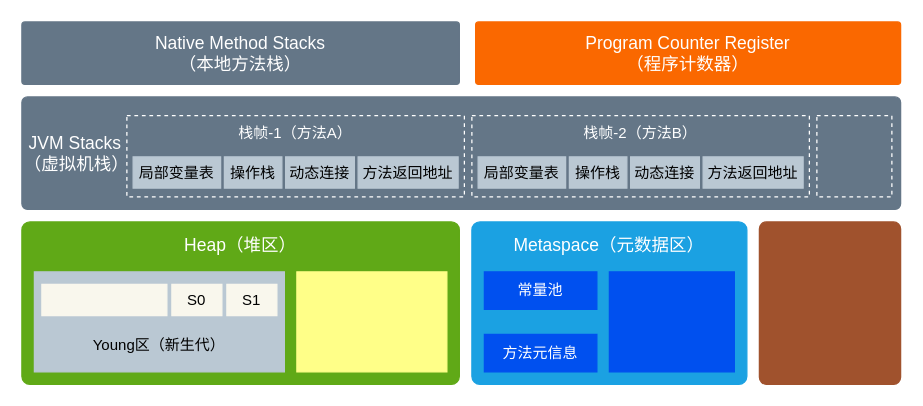
The diagram is 923 pixels wide and 406 high, and some of its shapes have lost their labels. The centre of each missing label's shape, as x and y in pixels:
"CodeCache JIT编译产物" goes at (x=829, y=302).
"Eden" goes at (x=104, y=299).
"klass 类元信息" goes at (x=671, y=321).
"Old区 （老年代）" goes at (x=371, y=321).
"栈帧-3 ··· 方法C ···" goes at (x=854, y=155).
